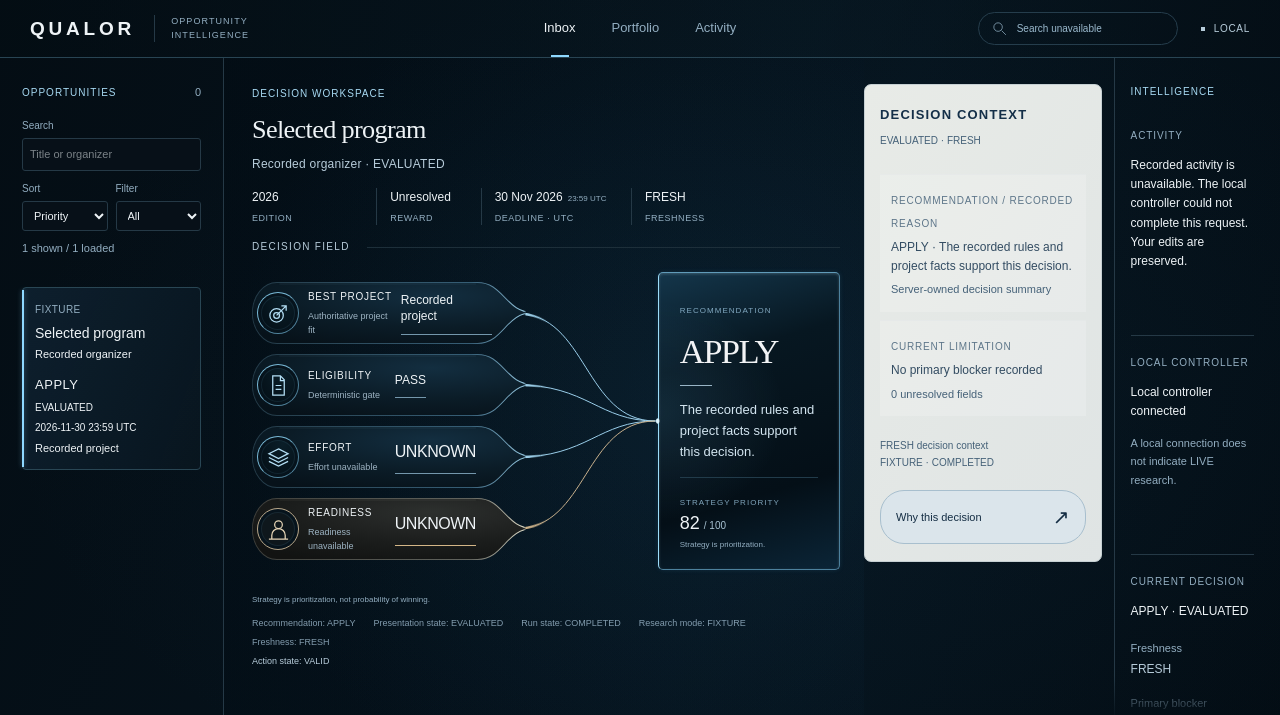
Test: honours the reduced-motion preference while the evidence sheet is open
Click the button "Why this decision ↗" at {"x": 983, "y": 517}, box [880,490,1086,544]
(page scrolled)
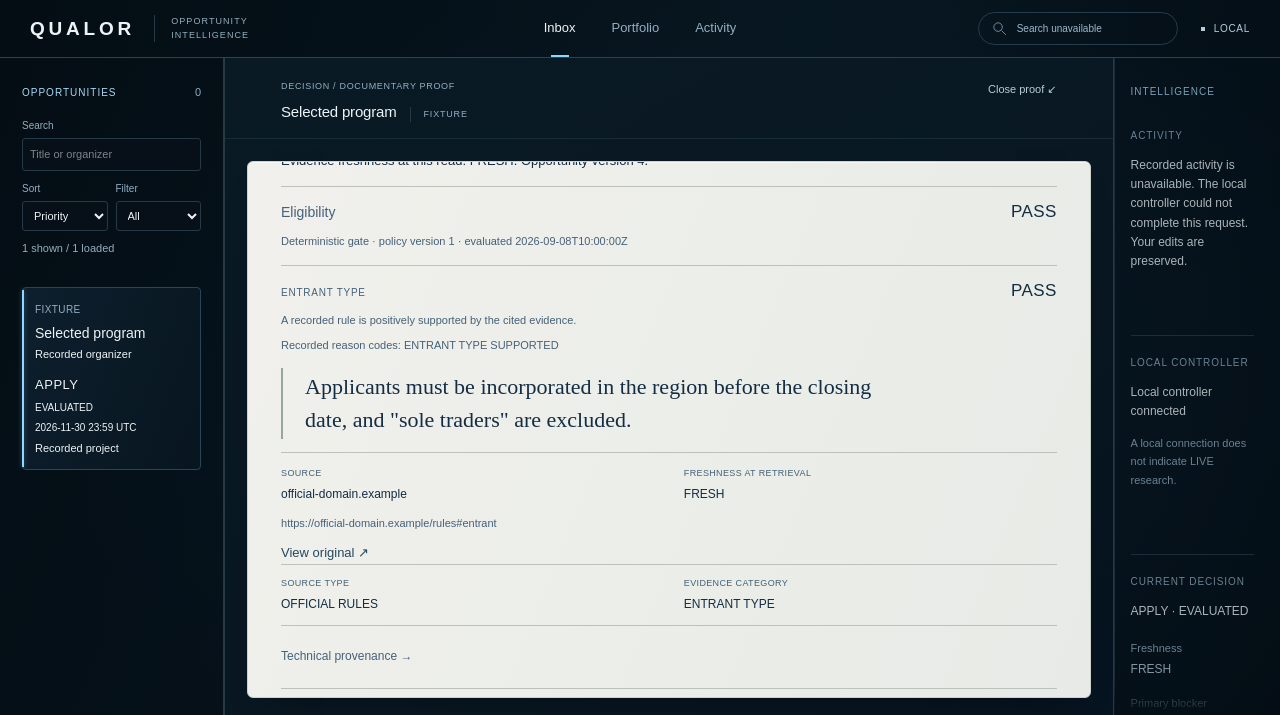
Result: the element "Eligibility" is shown at [281,186,1057,674]
